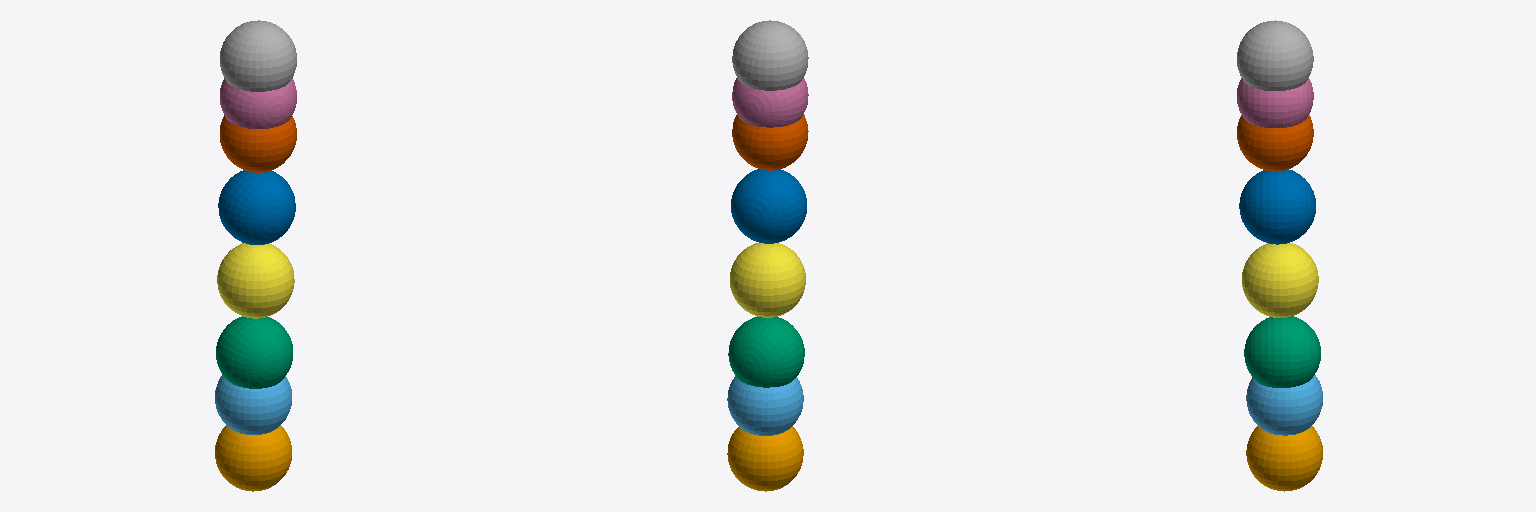
URDF robot description (gen3):
<?xml version="1.0" ?>
<robot name="gen3">
  <!-- Run the macros -->
  <link name="base_link">
    <inertial>
      <origin rpy="0 0 0" xyz="-0.000648 -0.000166 0.084487"/>
      <mass value="1.697"/>
      <inertia ixx="0.004622" ixy="9E-06" ixz="6E-05" iyy="0.004495" iyz="9E-06" izz="0.002079"/>
    </inertial>
    <visual>
      <origin xyz="0 0 0" rpy="0 0 0" />
      <geometry>
        <sphere radius="0.1"/>
      </geometry>
    </visual>
    <collision>
      <origin xyz="0 0 0" rpy="0 0 0" />
      <geometry>
        <sphere radius="0.1"/>
      </geometry>
    </collision>
  </link>
  <link name="shoulder_link">
    <inertial>
      <origin rpy="0 0 0" xyz="-2.3E-05 -0.010364 -0.07336"/>
      <mass value="1.3773"/>
      <inertia ixx="0.00457" ixy="1E-06" ixz="2E-06" iyy="0.004831" iyz="0.000448" izz="0.001409"/>
    </inertial>
    <visual>
      <origin xyz="0 0 0" rpy="0 0 0" />
      <geometry>
        <sphere radius="0.1"/>
      </geometry>
    </visual>
    <collision>
      <origin xyz="0 0 0" rpy="0 0 0" />
      <geometry>
        <sphere radius="0.1"/>
      </geometry>
    </collision>
  </link>
  <joint name="joint_1" type="revolute">
    <origin rpy="3.1416 2.7629E-18 -4.9305E-36" xyz="0 0 0.15643"/>
    <parent link="base_link"/>
    <child link="shoulder_link"/>
    <axis xyz="0 0 1"/>
    <limit effort="39" lower="-6.28" upper="6.28" velocity="1.3963"/>
  </joint>
  <link name="half_arm_1_link">
    <inertial>
      <origin rpy="0 0 0" xyz="-4.4E-05 -0.09958 -0.013278"/>
      <mass value="1.1636"/>
      <inertia ixx="0.011088" ixy="5E-06" ixz="0" iyy="0.001072" iyz="-0.000691" izz="0.011255"/>
    </inertial>
    <visual>
      <origin xyz="0 0 0" rpy="0 0 0" />
      <geometry>
        <sphere radius="0.1"/>
      </geometry>
    </visual>
    <collision>
      <origin xyz="0 0 0" rpy="0 0 0" />
      <geometry>
        <sphere radius="0.1"/>
      </geometry>
    </collision>
  </link>
  <joint name="joint_2" type="revolute">
    <origin rpy="1.5708 2.1343E-17 -1.1102E-16" xyz="0 0.005375 -0.12838"/>
    <parent link="shoulder_link"/>
    <child link="half_arm_1_link"/>
    <axis xyz="0 0 1"/>
    <limit effort="39" lower="-2.24" upper="2.24" velocity="1.3963"/>
  </joint>
  <link name="half_arm_2_link">
    <inertial>
      <origin rpy="0 0 0" xyz="-4.4E-05 -0.006641 -0.117892"/>
      <mass value="1.1636"/>
      <inertia ixx="0.010932" ixy="0" ixz="-7E-06" iyy="0.011127" iyz="0.000606" izz="0.001043"/>
    </inertial>
    <visual>
      <origin xyz="0 0 0" rpy="0 0 0" />
      <geometry>
        <sphere radius="0.1"/>
      </geometry>
    </visual>
    <collision>
      <origin xyz="0 0 0" rpy="0 0 0" />
      <geometry>
        <sphere radius="0.1"/>
      </geometry>
    </collision>
  </link>
  <joint name="joint_3" type="revolute">
    <origin rpy="-1.5708 1.2326E-32 -2.9122E-16" xyz="0 -0.21038 -0.006375"/>
    <parent link="half_arm_1_link"/>
    <child link="half_arm_2_link"/>
    <axis xyz="0 0 1"/>
    <limit effort="39" lower="-6.28" upper="6.28" velocity="1.3963"/>
  </joint>
  <link name="forearm_link">
    <inertial>
      <origin rpy="0 0 0" xyz="-1.8E-05 -0.075478 -0.015006"/>
      <mass value="0.9302"/>
      <inertia ixx="0.008147" ixy="-1E-06" ixz="0" iyy="0.000631" iyz="-0.0005" izz="0.008316"/>
    </inertial>
    <visual>
      <origin xyz="0 0 0" rpy="0 0 0" />
      <geometry>
        <sphere radius="0.1"/>
      </geometry>
    </visual>
    <collision>
      <origin xyz="0 0 0" rpy="0 0 0" />
      <geometry>
        <sphere radius="0.1"/>
      </geometry>
    </collision>
  </link>
  <joint name="joint_4" type="revolute">
    <origin rpy="1.5708 -6.6954E-17 -1.6653E-16" xyz="0 0.006375 -0.21038"/>
    <parent link="half_arm_2_link"/>
    <child link="forearm_link"/>
    <axis xyz="0 0 1"/>
    <limit effort="39" lower="-2.57" upper="2.57" velocity="1.3963"/>
  </joint>
  <link name="spherical_wrist_1_link">
    <inertial>
      <origin rpy="0 0 0" xyz="1E-06 -0.009432 -0.063883"/>
      <mass value="0.6781"/>
      <inertia ixx="0.001596" ixy="0" ixz="0" iyy="0.001607" iyz="0.000256" izz="0.000399"/>
    </inertial>
    <visual>
      <origin xyz="0 0 0" rpy="0 0 0" />
      <geometry>
        <sphere radius="0.1"/>
      </geometry>
    </visual>
    <collision>
      <origin xyz="0 0 0" rpy="0 0 0" />
      <geometry>
        <sphere radius="0.1"/>
      </geometry>
    </collision>
  </link>
  <joint name="joint_5" type="revolute">
    <origin rpy="-1.5708 2.2204E-16 -6.373E-17" xyz="0 -0.20843 -0.006375"/>
    <parent link="forearm_link"/>
    <child link="spherical_wrist_1_link"/>
    <axis xyz="0 0 1"/>
    <limit effort="9" lower="-6.28" upper="6.28" velocity="1.2218"/>
  </joint>
  <link name="spherical_wrist_2_link">
    <inertial>
      <origin rpy="0 0 0" xyz="1E-06 -0.045483 -0.00965"/>
      <mass value="0.6781"/>
      <inertia ixx="0.001641" ixy="0" ixz="0" iyy="0.00041" iyz="-0.000278" izz="0.001641"/>
    </inertial>
    <visual>
      <origin xyz="0 0 0" rpy="0 0 0" />
      <geometry>
        <sphere radius="0.1"/>
      </geometry>
    </visual>
    <collision>
      <origin xyz="0 0 0" rpy="0 0 0" />
      <geometry>
        <sphere radius="0.1"/>
      </geometry>
    </collision>
  </link>
  <joint name="joint_6" type="revolute">
    <origin rpy="1.5708 9.2076E-28 -8.2157E-15" xyz="0 0.00017505 -0.10593"/>
    <parent link="spherical_wrist_1_link"/>
    <child link="spherical_wrist_2_link"/>
    <axis xyz="0 0 1"/>
    <limit effort="9" lower="-2.09" upper="2.09" velocity="1.2218"/>
  </joint>
  <link name="bracelet_link">
    <inertial>
      <origin rpy="0 0 0" xyz="0.000281 0.011402 -0.029798"/>
      <mass value="0.5"/>
      <inertia ixx="0.000587" ixy="3E-06" ixz="3E-06" iyy="0.000369" iyz="-0.000118" izz="0.000609"/>
    </inertial>
    <visual>
      <origin xyz="0 0 0" rpy="0 0 0" />
      <geometry>
        <sphere radius="0.1"/>
      </geometry>
    </visual>
    <collision>
      <origin xyz="0 0 0" rpy="0 0 0" />
      <geometry>
        <sphere radius="0.1"/>
      </geometry>
    </collision>
  </link>
  <joint name="joint_7" type="revolute">
    <origin rpy="-1.5708 -5.5511E-17 9.6396E-17" xyz="0 -0.10593 -0.00017505"/>
    <parent link="spherical_wrist_2_link"/>
    <child link="bracelet_link"/>
    <axis xyz="0 0 1"/>
    <limit effort="9" lower="-6.28" upper="6.28" velocity="1.2218"/>
  </joint>
  <link name="end_effector_link"/>
  <joint name="end_effector" type="fixed">
    <origin rpy="3.14159265358979 1.09937075168372E-32 0" xyz="0 0 -0.0615250000000001"/>
    <parent link="bracelet_link"/>
    <child link="end_effector_link"/>
    <axis xyz="0 0 0"/>
  </joint>
  <link name="camera_link"/>
  <joint name="camera_module" type="fixed">
    <origin rpy="3.14159265358979 3.14159265358979 0" xyz="0 0.05639 -0.00305"/>
    <parent link="end_effector_link"/>
    <child link="camera_link"/>
  </joint>
  <link name="camera_depth_frame"/>
  <joint name="depth_module" type="fixed">
    <origin rpy="3.14159265358979 3.14159265358979 0" xyz="0.0275 0.066 -0.00305"/>
    <parent link="end_effector_link"/>
    <child link="camera_depth_frame"/>
  </joint>
  <link name="camera_color_frame"/>
  <joint name="color_module" type="fixed">
    <origin rpy="3.14159265358979 3.14159265358979 0" xyz="0 0.05639 -0.00305"/>
    <parent link="end_effector_link"/>
    <child link="camera_color_frame"/>
  </joint>
  <link name="tool_frame"/>
  <joint name="tool_frame_joint" type="fixed">
    <origin rpy="0 0 0" xyz="0 0 0"/>
    <parent link="end_effector_link"/>
    <child link="tool_frame"/>
    <axis xyz="0 0 0"/>
  </joint>
</robot>

--- Facts derived from the render (not from the file) ---
Views: 3 orthographic renders of the robot side by side, from view 1: azimuth 30°, elevation 25°; view 2: azimuth 150°, elevation 25°; view 3: azimuth 270°, elevation 25°.
Model gen3 with 13 links and 12 joints (7 revolute, 5 fixed), rooted at base_link, posed all joints at 0.
Links seen in each view (by area): view 1: half_arm_2_link, forearm_link, half_arm_1_link, bracelet_link, base_link, shoulder_link, spherical_wrist_1_link, spherical_wrist_2_link; view 2: half_arm_2_link, forearm_link, half_arm_1_link, bracelet_link, base_link, shoulder_link, spherical_wrist_1_link, spherical_wrist_2_link; view 3: half_arm_2_link, forearm_link, half_arm_1_link, bracelet_link, base_link, shoulder_link, spherical_wrist_1_link, spherical_wrist_2_link.
Link boxes in pixels (x1,y1,x2,y2): half_arm_2_link: [217, 243, 294, 318]; forearm_link: [218, 170, 295, 244]; half_arm_1_link: [216, 316, 292, 388]; bracelet_link: [220, 20, 296, 91]; base_link: [215, 425, 291, 491]; shoulder_link: [215, 375, 291, 434]; spherical_wrist_1_link: [220, 115, 296, 172]; spherical_wrist_2_link: [220, 78, 296, 128]; half_arm_2_link: [730, 243, 805, 317]; forearm_link: [731, 169, 806, 243]; half_arm_1_link: [728, 316, 804, 387]; bracelet_link: [732, 20, 808, 90]; base_link: [727, 426, 803, 491]; shoulder_link: [727, 376, 803, 435]; spherical_wrist_1_link: [732, 114, 808, 170]; spherical_wrist_2_link: [732, 78, 808, 127]; half_arm_2_link: [1242, 243, 1318, 317]; forearm_link: [1239, 169, 1315, 244]; half_arm_1_link: [1244, 316, 1320, 387]; bracelet_link: [1237, 20, 1313, 90]; base_link: [1246, 426, 1322, 491]; shoulder_link: [1246, 375, 1322, 435]; spherical_wrist_1_link: [1237, 115, 1313, 171]; spherical_wrist_2_link: [1237, 78, 1313, 127].
Size in the robot's own frame: 0.2 by 0.2249 by 1.33 metres.
Geometry: primitives only (box / cylinder / sphere), no mesh files.
